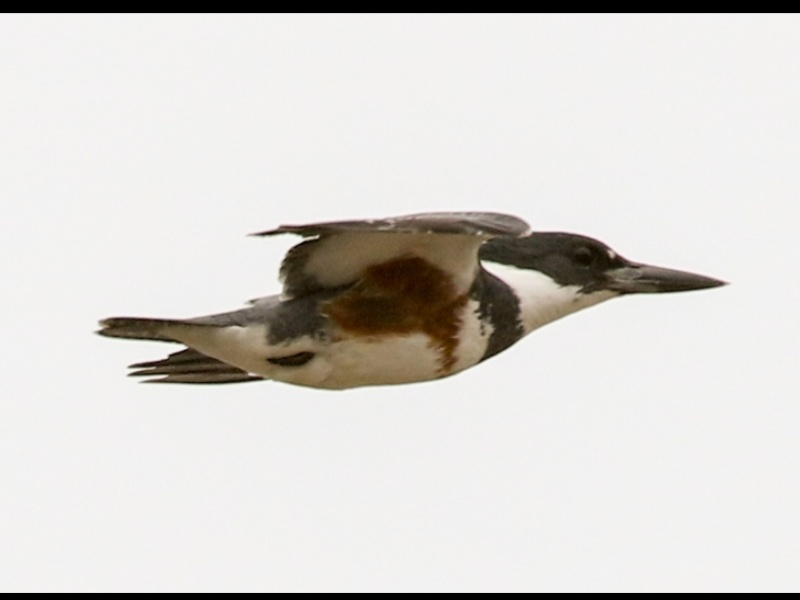kingfisher: (94, 208, 731, 406)
